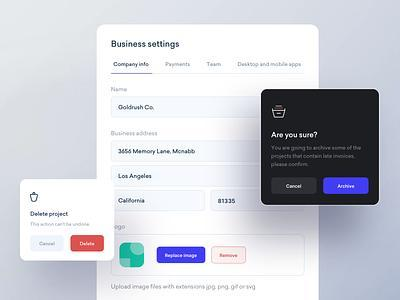button: (157, 247, 207, 264), (272, 179, 318, 196), (324, 179, 369, 195), (111, 59, 154, 75), (71, 236, 106, 253), (30, 235, 64, 252), (213, 247, 247, 264)
icon: (119, 242, 146, 270)
input: (113, 140, 262, 164), (111, 96, 262, 119), (114, 166, 263, 189), (114, 191, 206, 212), (211, 191, 261, 212)
label: (104, 36, 187, 52), (234, 58, 306, 71), (111, 127, 160, 140), (272, 130, 322, 142), (28, 211, 72, 220), (203, 59, 228, 72), (163, 60, 194, 69), (111, 83, 129, 95), (116, 224, 127, 233)
